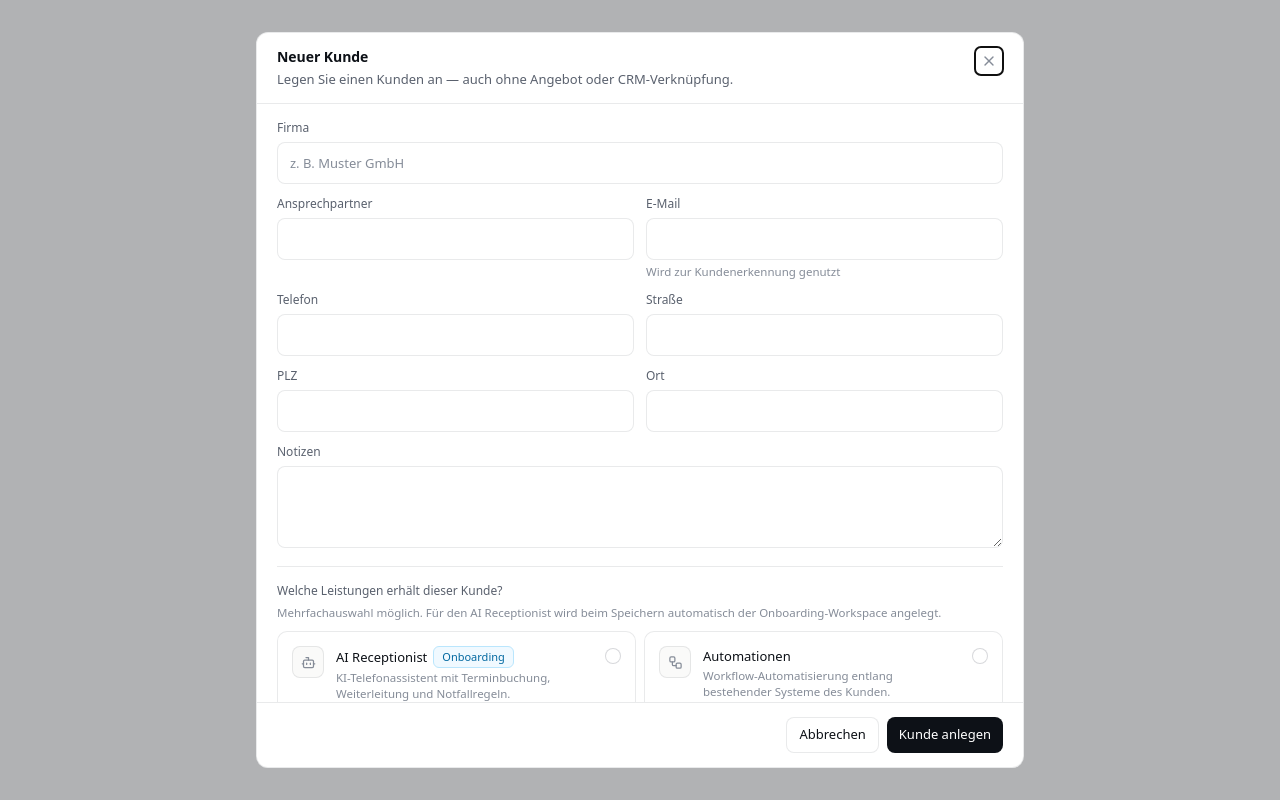
Test: pre-migration behaviour › saves the customer and explains the service could not be provisioned yet
The width and height of the screenshot is (1280, 800).
Type "Beispielpraxis GmbH" into the field labelled "Firma" at (640, 163), box [278,143,1002,183]
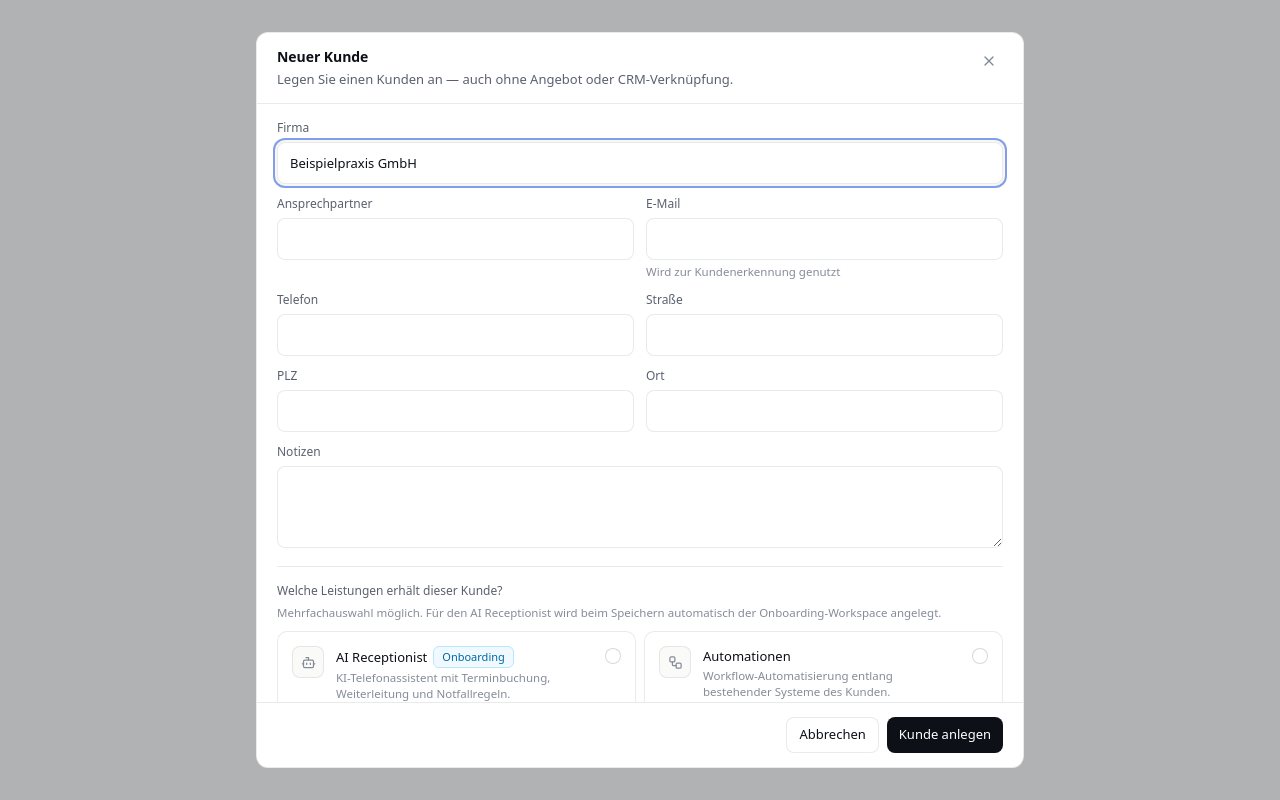
Click the button "AI Receptionist" at (456, 674), box [277,631,636,717]
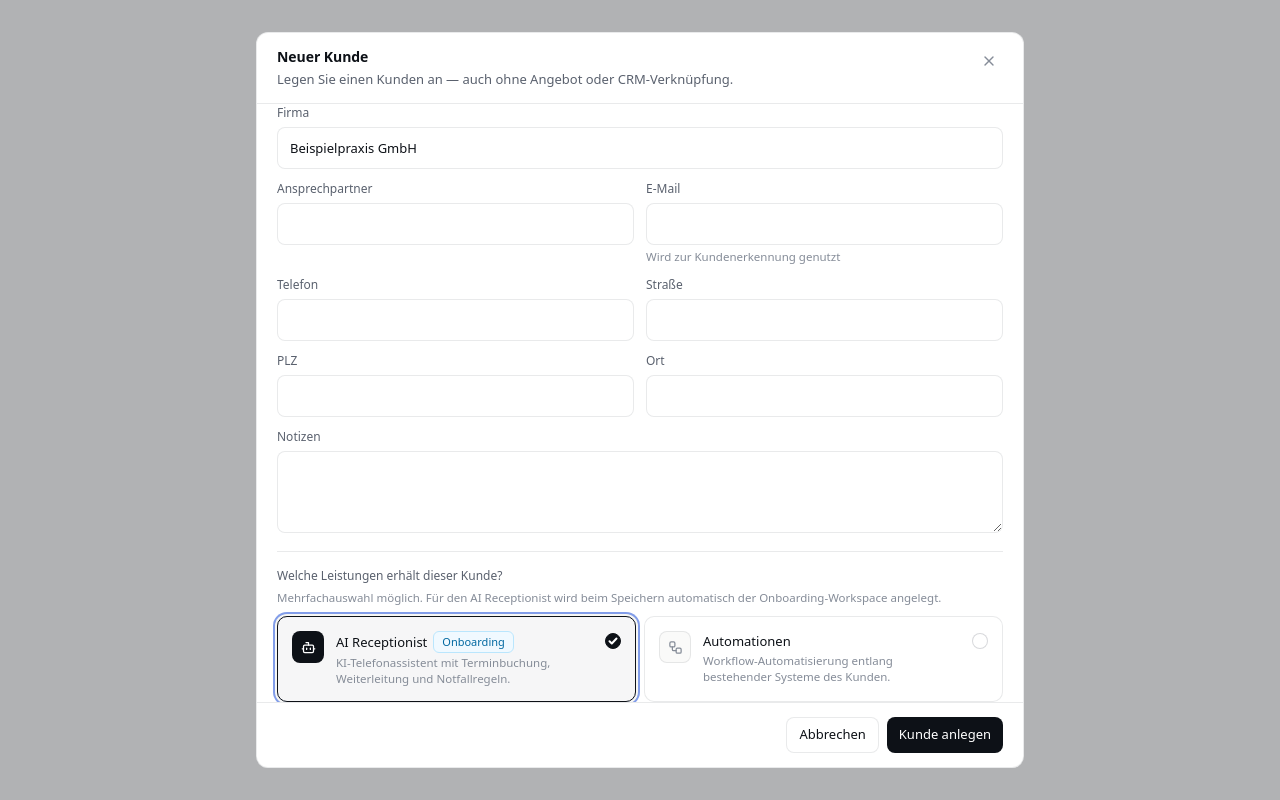
Click the button "Kunde anlegen" at (945, 735), box [887,717,1003,753]
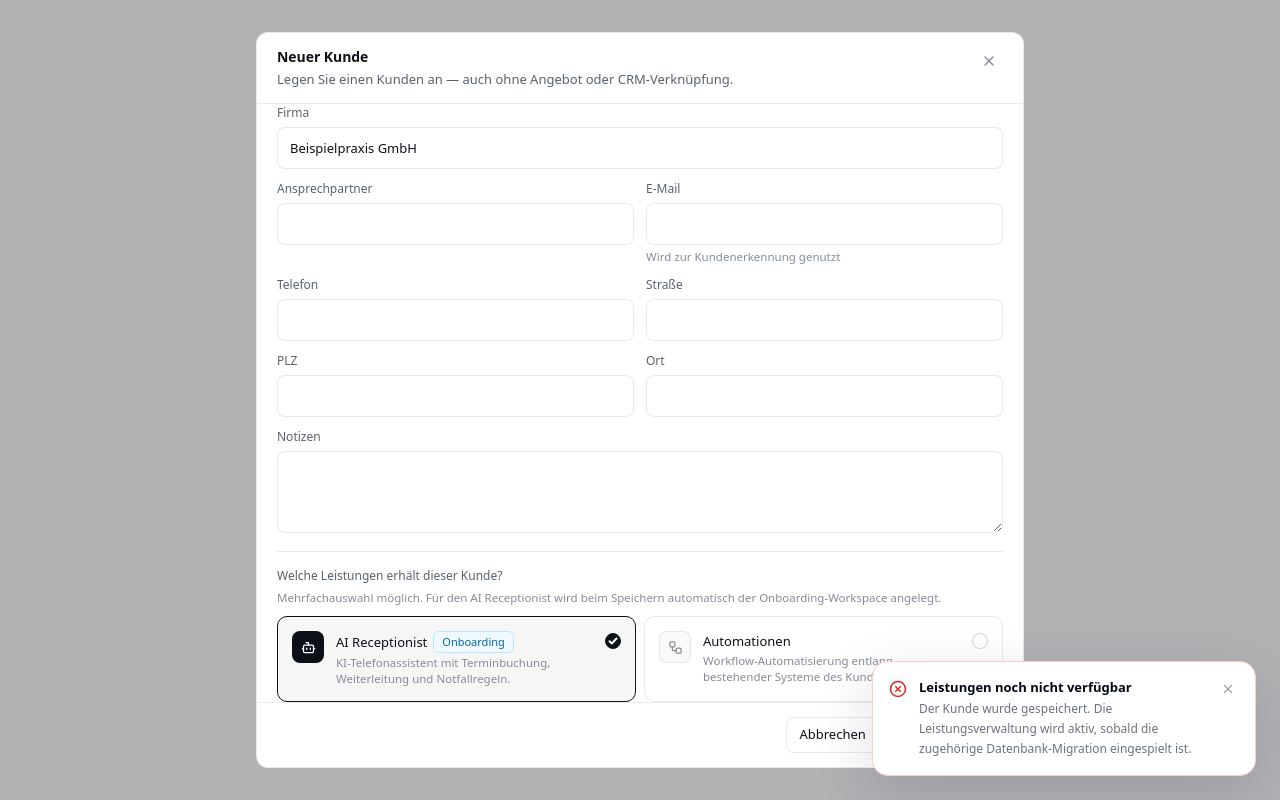
Expected: the text "Leistungen noch nicht verfügbar" is shown, [919,678,1132,696]
Expected: the text "Der Kunde wurde gespeichert" is shown, [919,700,1191,757]
